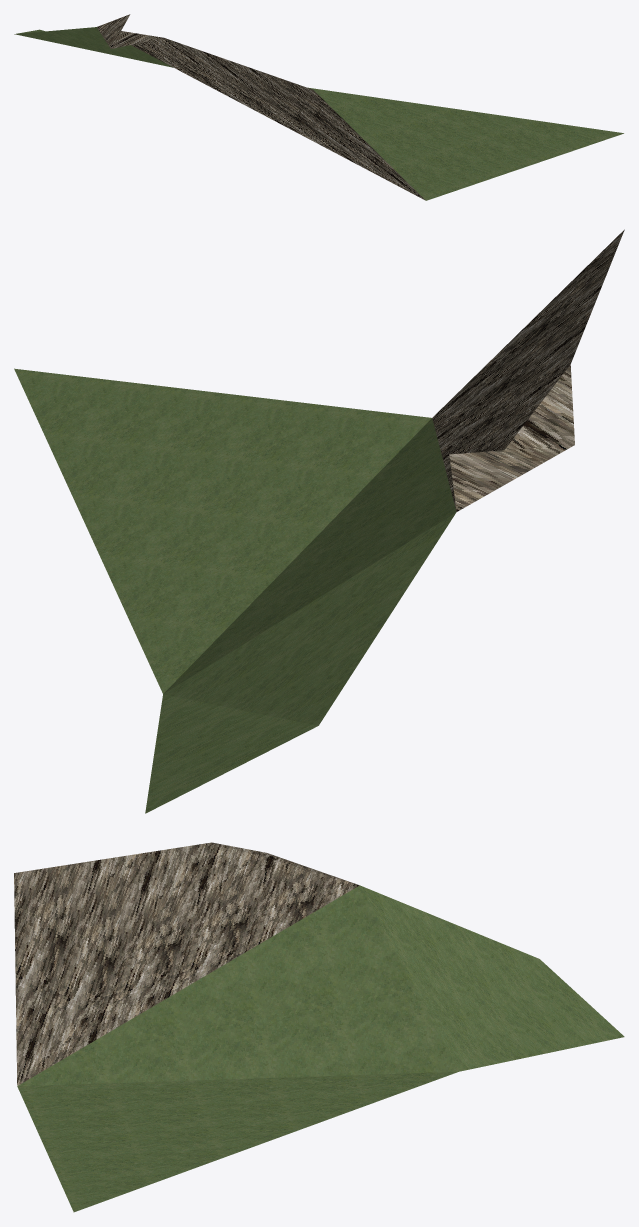
Rendered from LODa_carisle_mid_landmass_00_02.fbx.
3 renders of one model, top to bottom at view 1: azimuth 30°, elevation 25°; view 2: azimuth 150°, elevation 25°; view 3: azimuth 270°, elevation 25°, orthographic. The views are drawn at different scales.
Visible parts, largest first — view 1: LODa_carisle_mid_landmass_00_02; view 2: LODa_carisle_mid_landmass_00_02; view 3: LODa_carisle_mid_landmass_00_02.
Part boxes in pixels (x1,y1,x2,y2): LODa_carisle_mid_landmass_00_02: [14, 14, 623, 200]; LODa_carisle_mid_landmass_00_02: [14, 229, 624, 813]; LODa_carisle_mid_landmass_00_02: [14, 842, 624, 1212].
Bounding box in the file's own units: 33.92 × 38.78 × 11.21.
